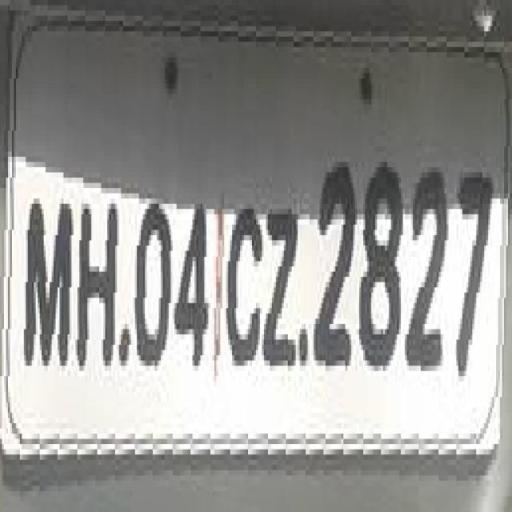number plate: (0, 157, 496, 454)
